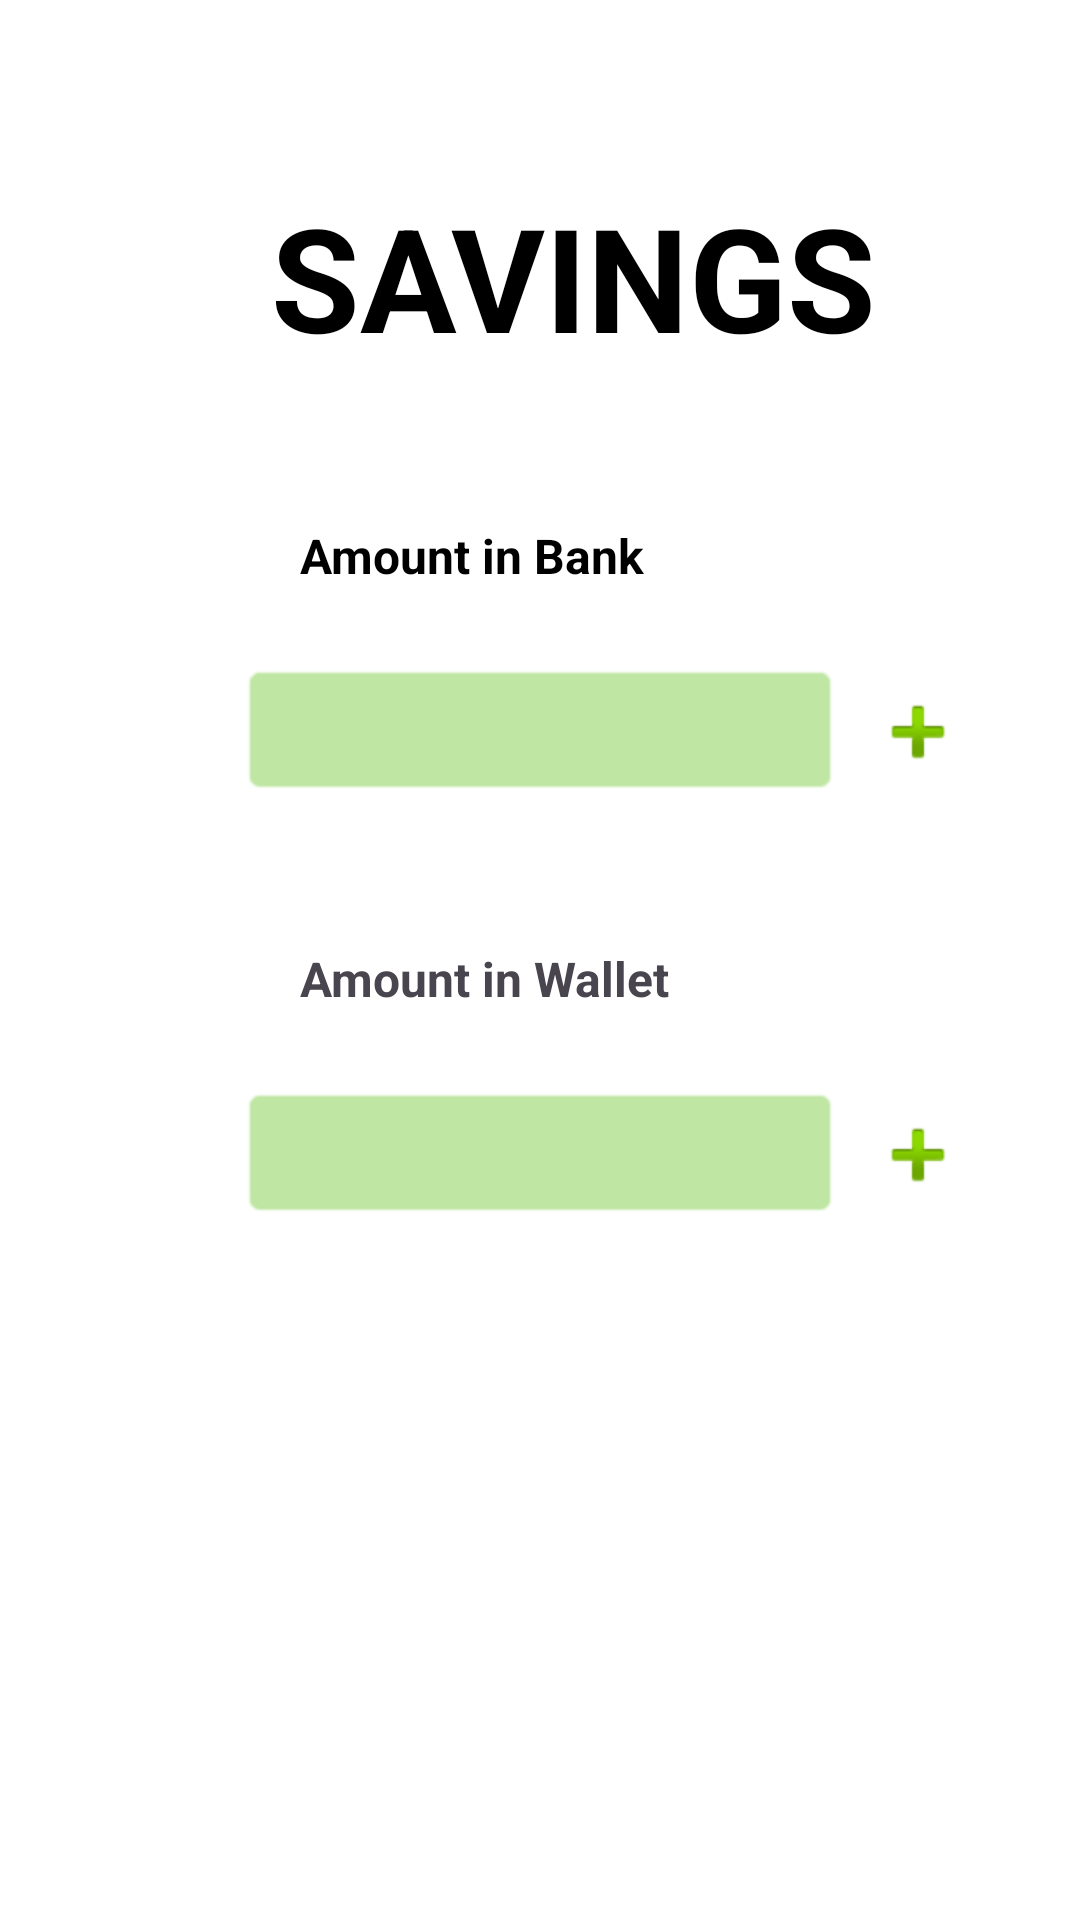

Icons on this 1080*1920 Android screen, each with the point to tap as (x=x, y=y):
add: (x=918, y=732), (x=918, y=1155)
